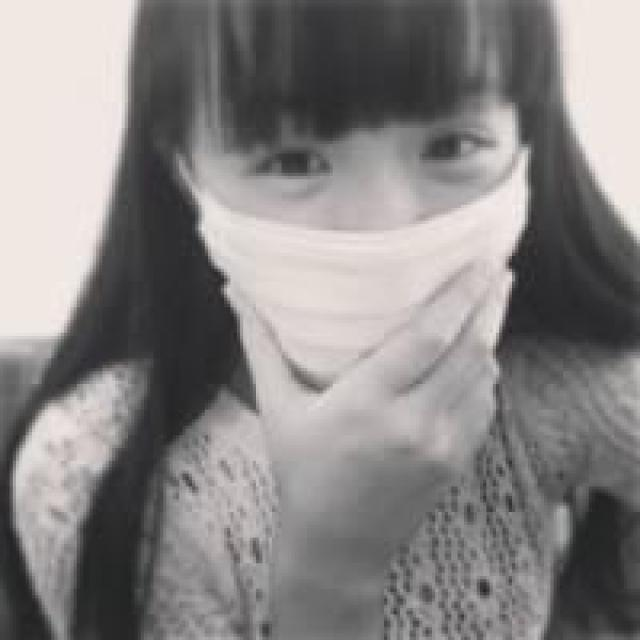mask: (190, 3, 526, 400)
